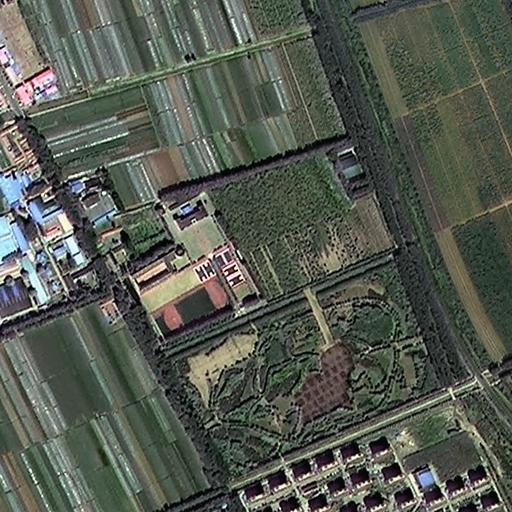school: (139, 188, 260, 331)
